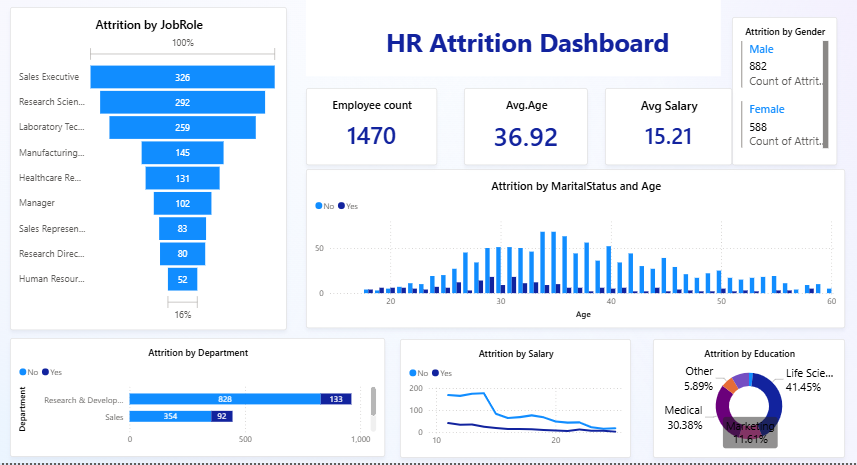

What the dashboard file says about the page in this screenshot:
{"tool":"powerbi","page":{"name":"Page 1","canvas":[1280,720],"ordinal":0},"visuals":[{"type":"clusteredColumnChart","title":"Attrition by MaritalStatus and  Age ","fields":{"Category":["HR-Employee-Attrition.Age"],"Y":["CountNonNull(HR-Employee-Attrition.MaritalStatus)"],"Series":["HR-Employee-Attrition.Attrition"]},"box":[459.5,289.8,788.8,232.7],"z":2000},{"type":"funnel","title":"Attrition by JobRole","fields":{"Category":["HR-Employee-Attrition.JobRole","HR-Employee-Attrition.EmployeeCount","HR-Employee-Attrition.Attrition"],"Y":["CountNonNull(HR-Employee-Attrition.Attrition)"]},"box":[26.3,52.7,405.4,472.7],"z":4000},{"type":"barChart","title":"Attrition by Department ","fields":{"Category":["HR-Employee-Attrition.Department"],"Series":["HR-Employee-Attrition.Attrition"],"Y":["CountNonNull(HR-Employee-Attrition.Attrition)"]},"box":[26.3,537.1,548.8,174.1],"z":5000},{"type":"donutChart","title":"Attrition by  Education","fields":{"Series":["HR-Employee-Attrition.EducationField"],"Y":["Sum(HR-Employee-Attrition.Education)"]},"box":[967.3,538.5,281,174.1],"z":5001},{"type":"multiRowCard","title":"Attrition by Gender","fields":{"Values":["CountNonNull(HR-Employee-Attrition.Attrition)","HR-Employee-Attrition.Gender"]},"box":[1082.9,67.3,153.7,216.6],"z":5003},{"type":"lineChart","title":"Attrition by Salary","fields":{"Category":["HR-Employee-Attrition.PercentSalaryHike"],"Series":["HR-Employee-Attrition.Attrition"],"Y":["CountNonNull(HR-Employee-Attrition.Attrition)"]},"box":[597.1,538.5,338,174.1],"z":5004},{"type":"card","title":"Employee count","fields":{"Values":["Sum(HR-Employee-Attrition.EmployeeCount)"]},"box":[459.5,171.2,191.7,112.7],"z":5005},{"type":"card","title":"Avg.Age","fields":{"Values":["Avg(HR-Employee-Attrition.Age)"]},"box":[690.7,171.2,181.5,112.7],"z":5006},{"type":"card","title":"Avg Salary","fields":{"Values":["Avg(HR-Employee-Attrition.PercentSalaryHike)"]},"box":[897.1,171.2,185.9,112.7],"z":5007},{"type":"actionButton","box":[0,0,100,40],"z":5008},{"type":"textbox","box":[459.5,22,607.3,131.7],"z":5013}]}

Visuals, with their boxes on the page's 1280x720 design canvas (x1, y1, x2, y2). These are canvas units, not pixel positions in the 857x465 screenshot, which may show the page scaled, cropped or inside an application window:
"Attrition by MaritalStatus and  Age " clusteredColumnChart: bbox=(460, 290, 1248, 522)
"Attrition by JobRole" funnel: bbox=(26, 53, 432, 525)
"Attrition by Department " barChart: bbox=(26, 537, 575, 711)
"Attrition by  Education" donutChart: bbox=(967, 538, 1248, 713)
"Attrition by Gender" multiRowCard: bbox=(1083, 67, 1237, 284)
"Attrition by Salary" lineChart: bbox=(597, 538, 935, 713)
"Employee count" card: bbox=(460, 171, 651, 284)
"Avg.Age" card: bbox=(691, 171, 872, 284)
"Avg Salary" card: bbox=(897, 171, 1083, 284)
actionButton: bbox=(0, 0, 100, 40)
textbox: bbox=(460, 22, 1067, 154)
